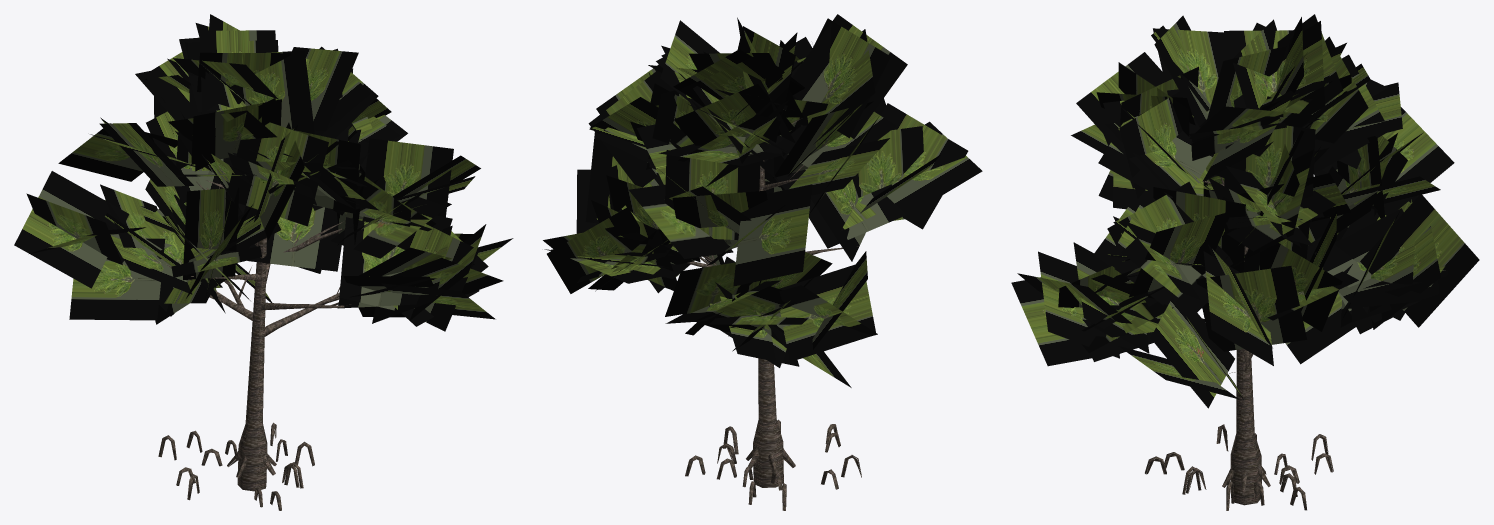
File: brug_lod1.glb
The picture shows the model from 3 angles, left to right: view 1: azimuth 30°, elevation 25°; view 2: azimuth 150°, elevation 25°; view 3: azimuth 270°, elevation 25°; orthographic projection. The views are drawn at different scales.
Parts seen in each view (by area): view 1: lod1; view 2: lod1; view 3: lod1.
Part boxes in pixels (x1,y1,x2,y2): lod1: [14, 14, 513, 510]; lod1: [543, 14, 982, 510]; lod1: [1011, 14, 1479, 510].
Size of the model in its own units: 8.75 by 9.46 by 8.47.
Materials: 2 (2 with a texture image).
